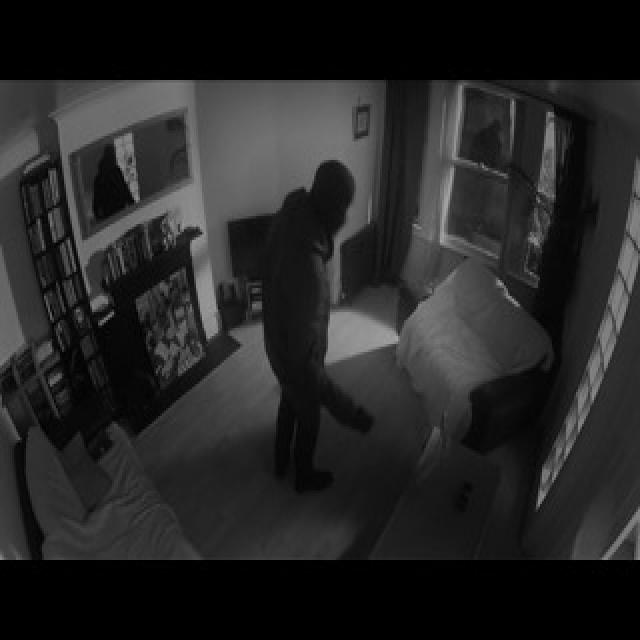thief: (276, 159, 361, 410)
